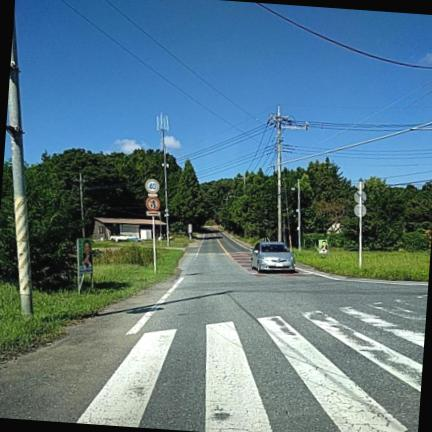Road: (0, 233, 427, 431)
